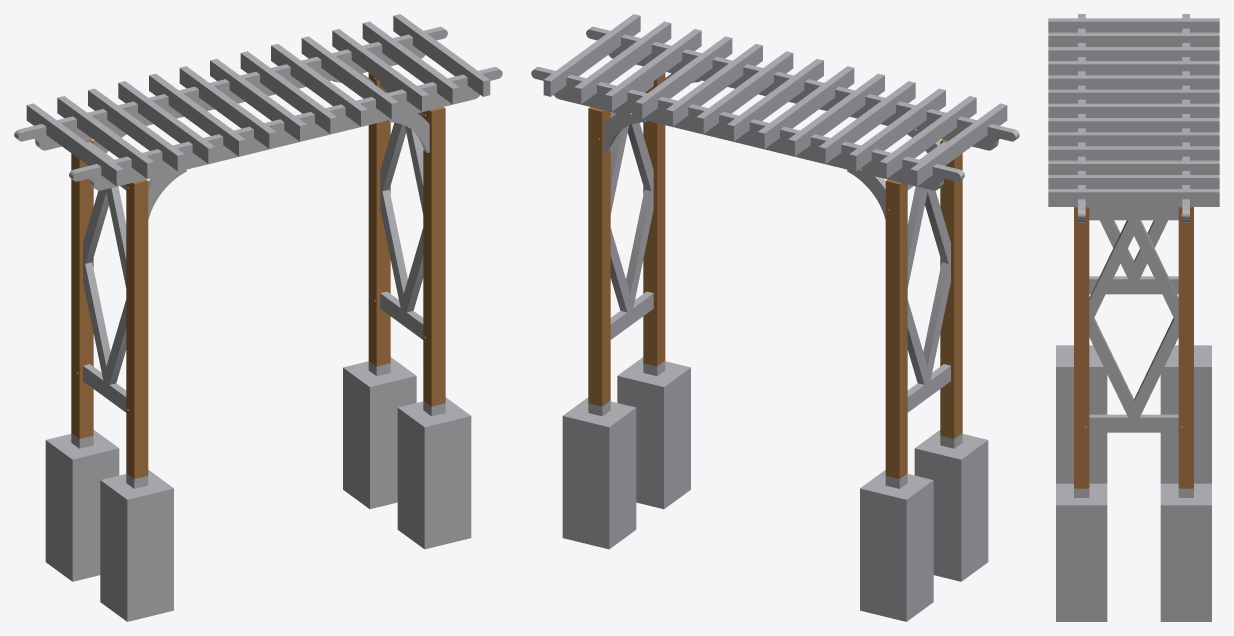
File: tonnelle-jasmin.glb
3 renders of one model, left to right at view 1: azimuth 30°, elevation 25°; view 2: azimuth 150°, elevation 25°; view 3: azimuth 270°, elevation 25°, orthographic. The views are drawn at different scales.
Visible parts, largest first — view 1: Plots de fondation (4), Chevrons, Sablières (2), Poteau avant gauche, Poteau avant droit, Poteau arrière gauche, Poteau arrière droit, Losange — bas arrière (2), Losange — haut arrière (2), Losange — bas avant (2), Traverses basses (2), Losange — haut avant (2) (+3 smaller); view 2: Plots de fondation (4), Chevrons, Sablières (2), Poteau arrière gauche, Poteau arrière droit, Poteau avant gauche, Poteau avant droit, Losange — bas avant (2), Losange — haut avant (2), Losange — bas arrière (2), Traverses basses (2), Losange — haut arrière (2) (+3 smaller); view 3: Chevrons, Plots de fondation (4), Poteau arrière droit, Poteau avant droit, Traverses basses (2), Losange — bas arrière (2), Losange — bas avant (2), Losange — haut arrière (2), Losange — haut avant (2), Sablières (2), Entretoises hautes (2), Pieds de poteau (4).
Boxes of the visible parts, bbox=[...] form: Plots de fondation (4): bbox=[45, 357, 471, 621]; Chevrons: bbox=[26, 14, 490, 186]; Sablières (2): bbox=[14, 26, 502, 190]; Poteau avant gauche: bbox=[126, 179, 148, 478]; Poteau avant droit: bbox=[423, 107, 445, 406]; Poteau arrière gauche: bbox=[71, 139, 93, 438]; Poteau arrière droit: bbox=[368, 73, 390, 366]; Losange — bas arrière (2): bbox=[83, 190, 407, 387]; Losange — haut arrière (2): bbox=[83, 122, 406, 263]; Losange — bas avant (2): bbox=[106, 228, 423, 388]; Traverses basses (2): bbox=[83, 291, 423, 412]; Losange — haut avant (2): bbox=[106, 126, 423, 287]; Plots de fondation (4): bbox=[562, 357, 988, 621]; Chevrons: bbox=[543, 14, 1007, 186]; Sablières (2): bbox=[531, 26, 1019, 190]; Poteau arrière gauche: bbox=[885, 179, 907, 478]; Poteau arrière droit: bbox=[588, 107, 610, 406]; Poteau avant gauche: bbox=[940, 139, 962, 438]; Poteau avant droit: bbox=[643, 73, 665, 366]; Losange — bas avant (2): bbox=[626, 190, 950, 387]; Losange — haut avant (2): bbox=[627, 122, 950, 263]; Losange — bas arrière (2): bbox=[610, 228, 927, 388]; Traverses basses (2): bbox=[610, 291, 950, 412]; Losange — haut arrière (2): bbox=[610, 126, 927, 287]; Chevrons: bbox=[1048, 18, 1219, 206]; Plots de fondation (4): bbox=[1056, 345, 1211, 621]; Poteau arrière droit: bbox=[1178, 207, 1193, 488]; Poteau avant droit: bbox=[1074, 207, 1089, 488]; Traverses basses (2): bbox=[1089, 276, 1178, 432]; Losange — bas arrière (2): bbox=[1134, 220, 1178, 422]; Losange — bas avant (2): bbox=[1089, 220, 1133, 422]; Losange — haut arrière (2): bbox=[1134, 216, 1178, 318]; Losange — haut avant (2): bbox=[1089, 216, 1133, 318]; Sablières (2): bbox=[1078, 14, 1189, 222]; Entretoises hautes (2): bbox=[1089, 207, 1178, 220]; Pieds de poteau (4): bbox=[1074, 488, 1193, 497].
Bounding box in the file's own units: 2.76 × 2.81 × 1.
